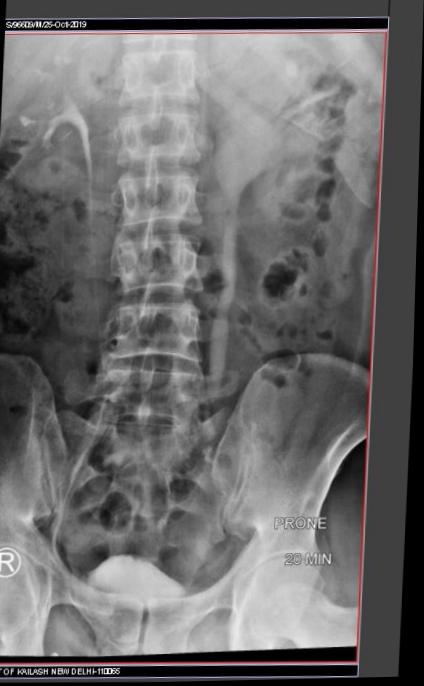bladder: (66, 509, 219, 607)
vertebrae: (112, 107, 207, 170)
